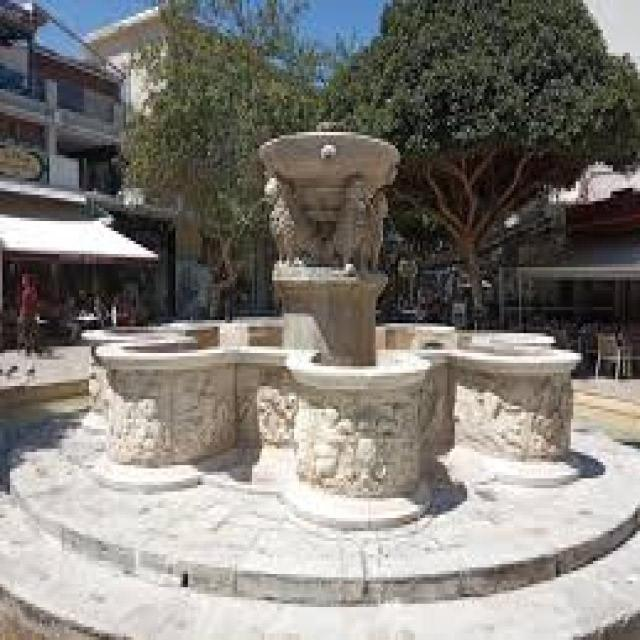Liontaria: (84, 122, 578, 520)
